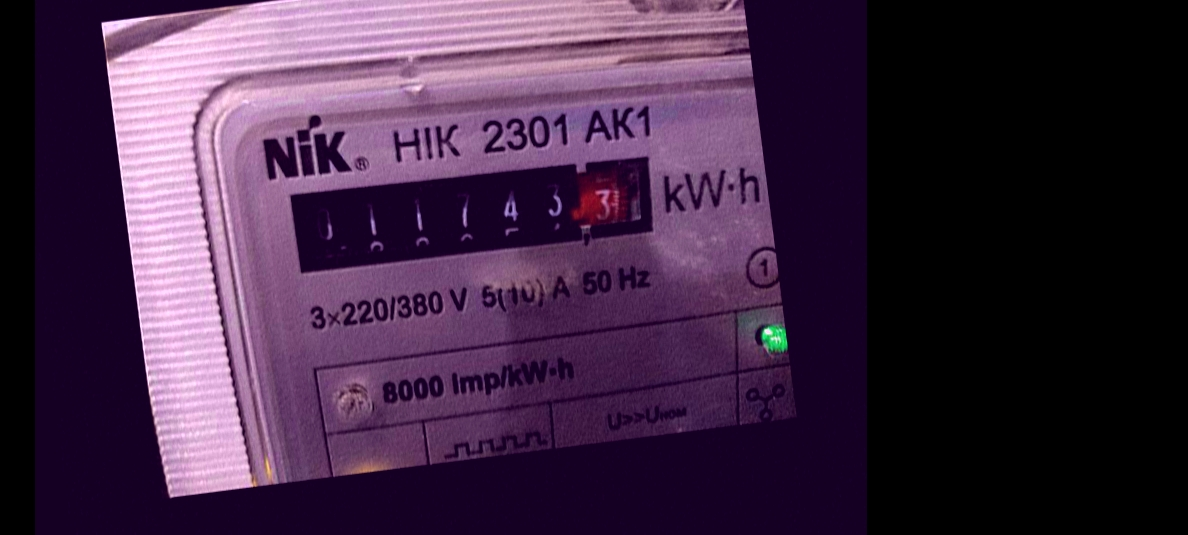0: (313, 203, 340, 245), (362, 197, 385, 240)
1: (409, 192, 430, 235)
3: (543, 177, 569, 222), (593, 184, 617, 224)
4: (499, 183, 524, 225)
7: (452, 186, 480, 232)
screen: (271, 135, 669, 290)
